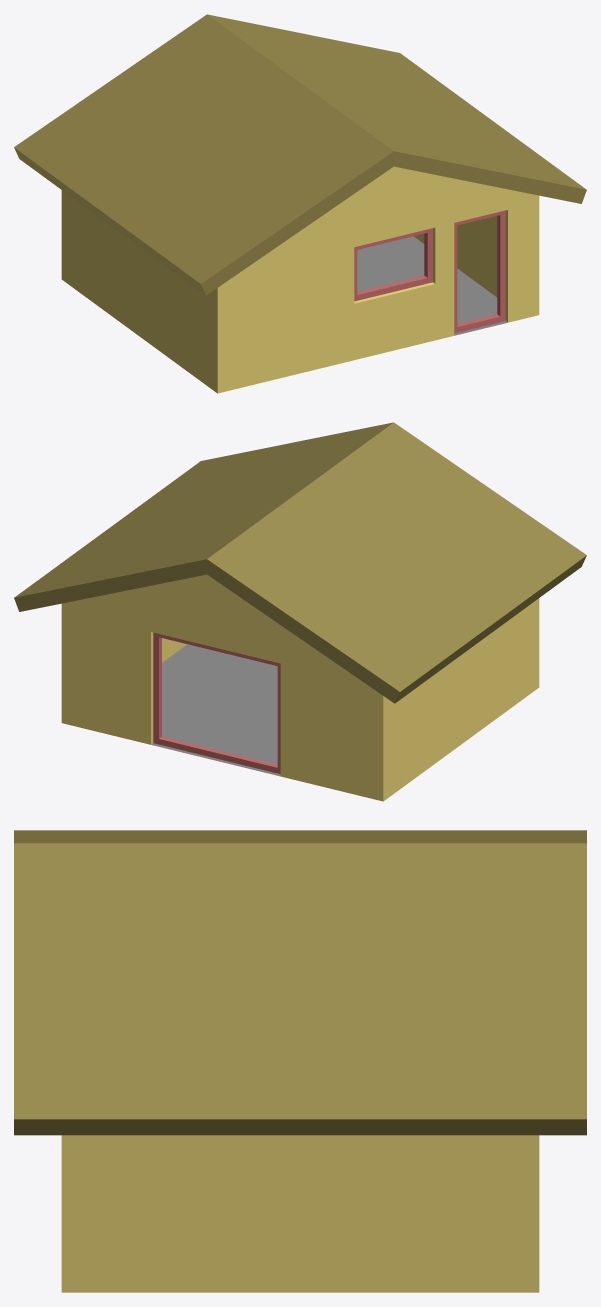
Rendered from result.glb.
3 views of the same model, one above another, from view 1: azimuth 30°, elevation 25°; view 2: azimuth 150°, elevation 25°; view 3: azimuth 270°, elevation 25° (orthographic). The views are drawn at different scales.
Visible parts, largest first — view 1: b9e903ac-db4e-46e3-b7ce-c51fcb3f7d09__undefined (×2), b25f8a34-d6bd-418e-9ae5-66cf008aaeb5__undefined, 3d603a8f-97a2-4a54-90e7-a3a623f3a082__Plane_5, 4166bbdc-7e10-4c43-8278-2c67fbfaaf91__Box, 27dbb0a6-50e8-43a1-82b6-ab0499b12e1b__Box_3; view 2: b9e903ac-db4e-46e3-b7ce-c51fcb3f7d09__undefined (×2), b25f8a34-d6bd-418e-9ae5-66cf008aaeb5__undefined, 3d603a8f-97a2-4a54-90e7-a3a623f3a082__Plane_5, 173f437a-83f2-461d-a7a2-36a3f31ee8ca__Box_6; view 3: b9e903ac-db4e-46e3-b7ce-c51fcb3f7d09__undefined (×2), b25f8a34-d6bd-418e-9ae5-66cf008aaeb5__undefined.
Boxes of the visible parts, x1,y1,x2,y2 form: b9e903ac-db4e-46e3-b7ce-c51fcb3f7d09__undefined (×2): (14, 14, 586, 295); b25f8a34-d6bd-418e-9ae5-66cf008aaeb5__undefined: (61, 166, 539, 393); 3d603a8f-97a2-4a54-90e7-a3a623f3a082__Plane_5: (357, 236, 507, 335); 4166bbdc-7e10-4c43-8278-2c67fbfaaf91__Box: (454, 210, 505, 333); 27dbb0a6-50e8-43a1-82b6-ab0499b12e1b__Box_3: (354, 228, 432, 301); b9e903ac-db4e-46e3-b7ce-c51fcb3f7d09__undefined (×2): (14, 422, 586, 703); b25f8a34-d6bd-418e-9ae5-66cf008aaeb5__undefined: (61, 574, 539, 801); 3d603a8f-97a2-4a54-90e7-a3a623f3a082__Plane_5: (151, 644, 280, 776); 173f437a-83f2-461d-a7a2-36a3f31ee8ca__Box_6: (153, 632, 280, 773); b9e903ac-db4e-46e3-b7ce-c51fcb3f7d09__undefined (×2): (14, 830, 586, 1135); b25f8a34-d6bd-418e-9ae5-66cf008aaeb5__undefined: (61, 1135, 539, 1292).
Bounding box in the file's own units: 716 × 380 × 600.
